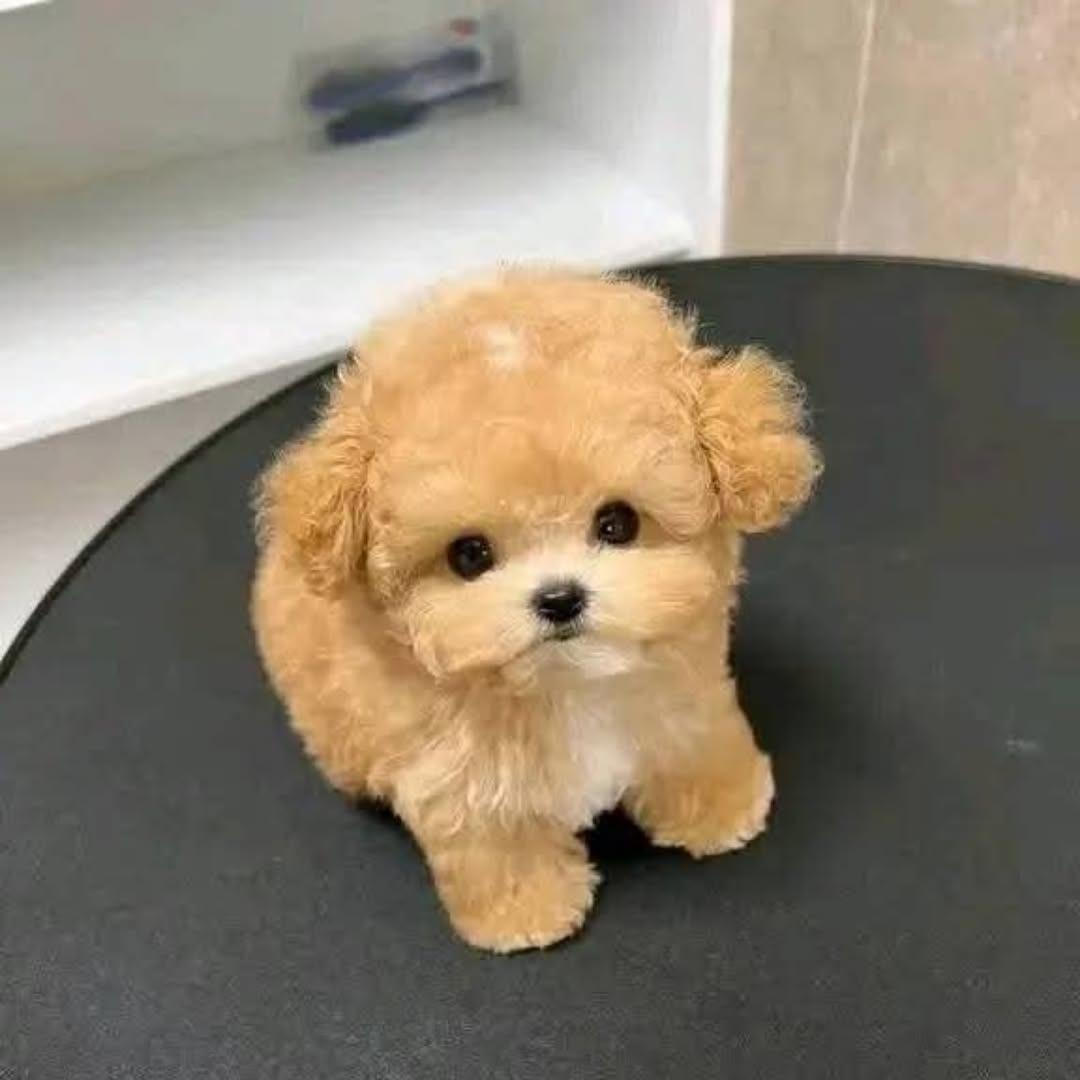puppy-dog: (252, 257, 821, 956)
